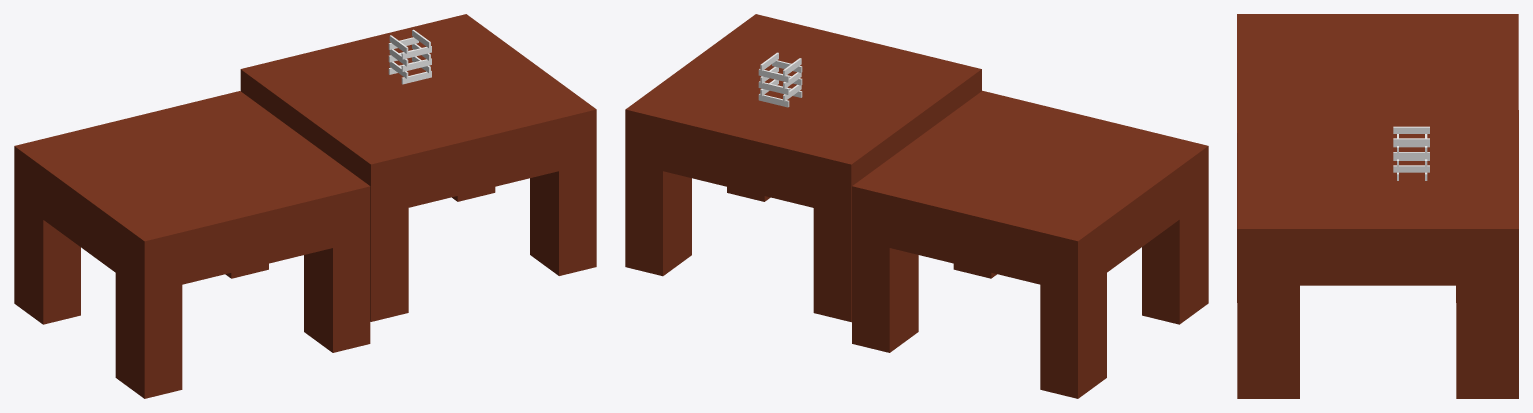
The model's file is keva_tower_12_structure.dae.
3 renders of one model, left to right at view 1: azimuth 30°, elevation 25°; view 2: azimuth 150°, elevation 25°; view 3: azimuth 270°, elevation 25°, orthographic. The views are drawn at different scales.
Parts seen in each view (by area): view 1: base (×7); view 2: base (×7); view 3: base (×5), SketchUp (×3).
Boxes of the visible parts, x1,y1,x2,y2 form: base (×7): (14, 14, 596, 398); base (×7): (625, 14, 1208, 398); base (×5): (1237, 14, 1518, 398); SketchUp (×3): (1393, 126, 1429, 159).
Bounding box in the file's own units: 1.8 × 0.9009 × 0.824.
